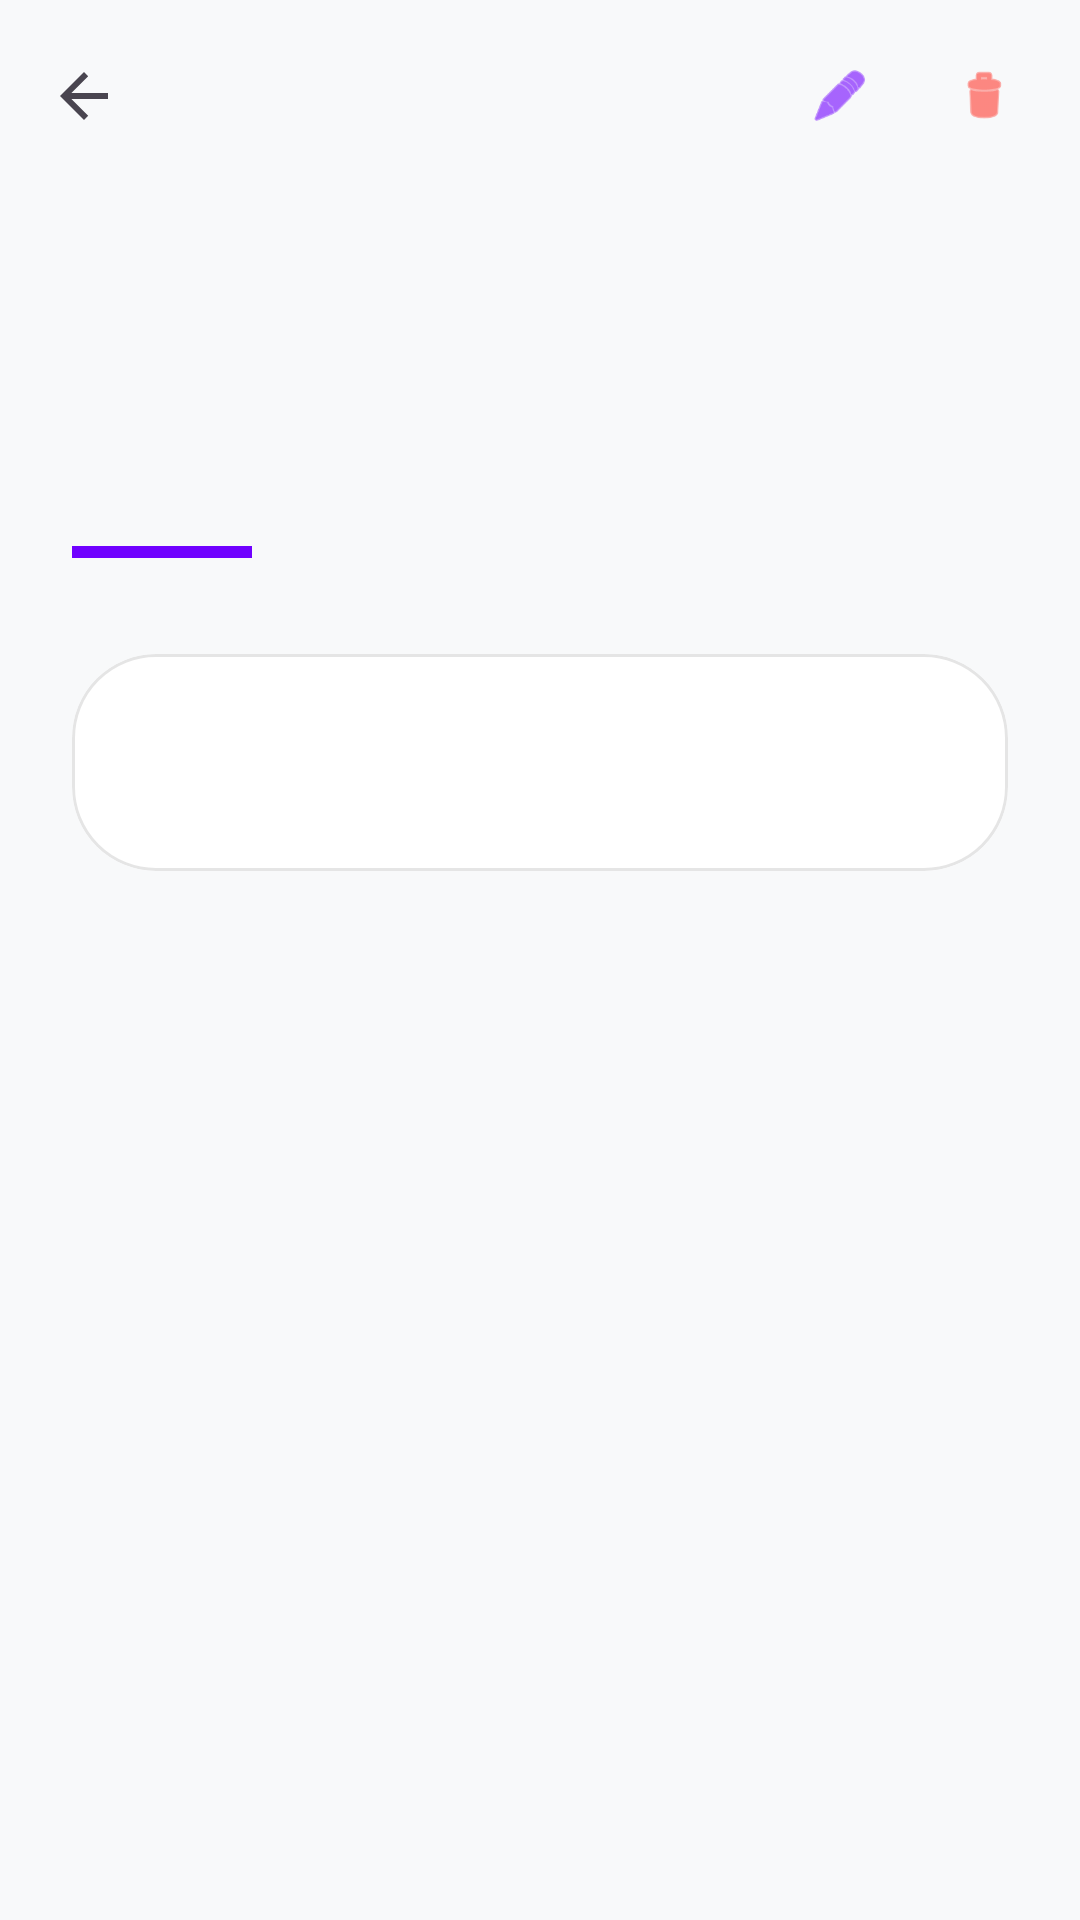

Where to tap for icons on this 1080x1920 app screen, as point (x, y):
delete: point (984, 95)
edit: point (839, 95)
